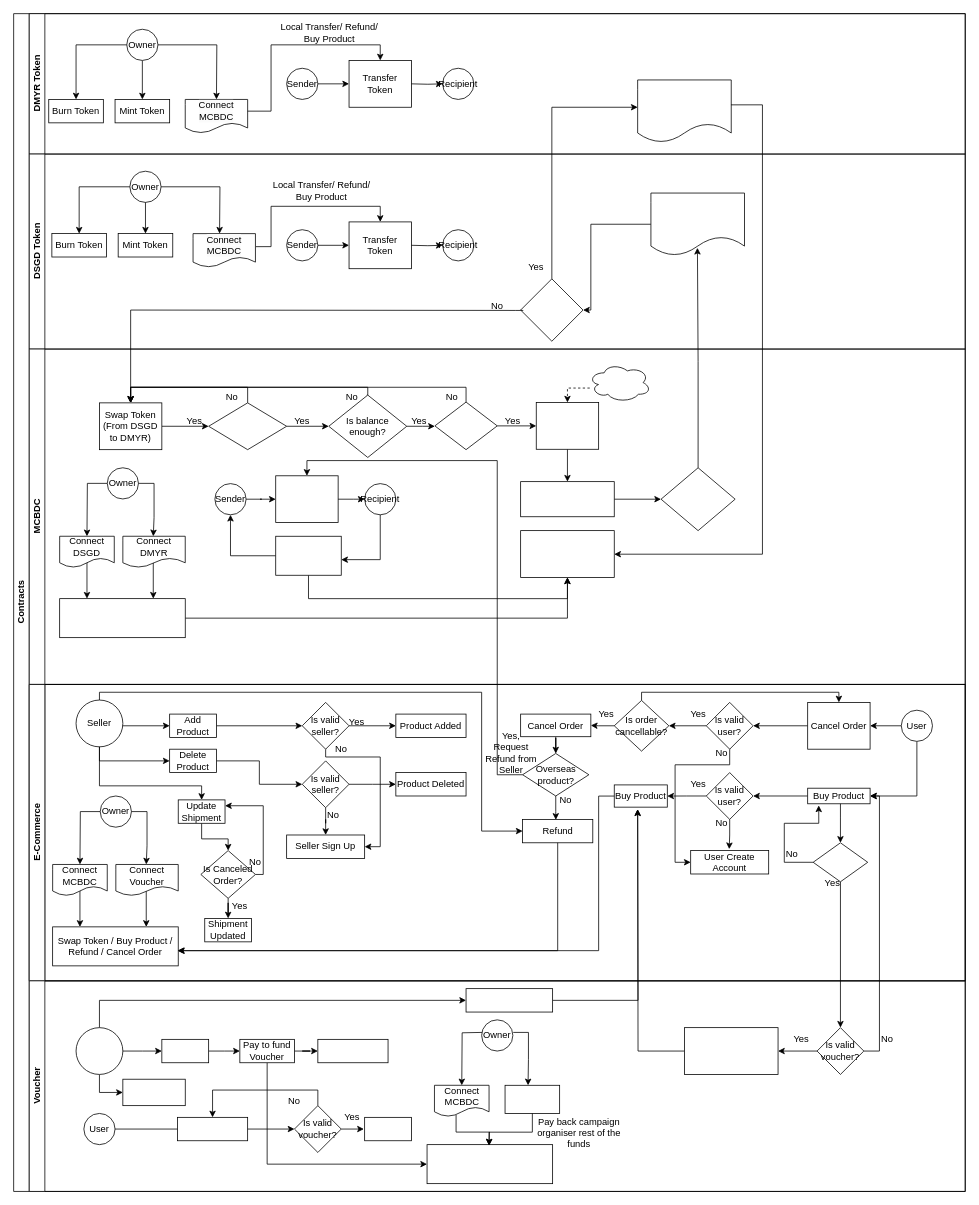
This 979x1205 diagram has some shape labels left out. The centre of each missing label's shape, as x and y in pixels:
"Add / Remove blacklist" belongs at [153,1092].
"Add to History" belongs at [567,553].
"Burn Sender's Token" belongs at [697,223].
"Burn Voucher" belongs at [532,1099].
"Calculate discounted price" belongs at [731,1050].
"Campaign Organiser" belongs at [99,1050].
"Check Rate Response" belongs at [567,499].
"Claim Voucher" belongs at [212,1129].
"Create Request for Payment" belongs at [306,499].
"Create Voucher" belongs at [185,1051].
"Is balance of LINK enough?" belongs at [465,425].
"Is Rate Response > 0?" belongs at [697,499].
"Is Sender's Token enough?" belongs at [551,309].
"Is supported Token?" belongs at [247,426].
"Mint / Distribute Voucher" belongs at [352,1051].
"Mint Recipient's Token by multiplying exchange rate" belongs at [684,110].
"Oracle" belongs at [619,382].
"Pay Request for Payment" belongs at [308,555].
"Reimburse Seller with voucher price" belongs at [509,1000].
"Request FX Rate" belongs at [567,425].
"Swap Token / Local Transfer" belongs at [122,618].
"Swap Token / Local Transfer / Add to History" belongs at [489,1164].
"Voucher claimed" belongs at [387,1129].
"With Voucher?" belongs at [840,862].
